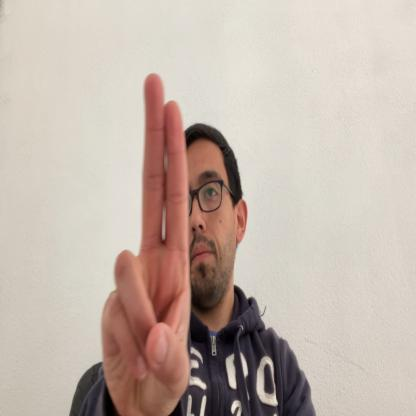U: (100, 72, 190, 416)
